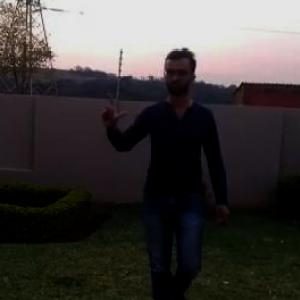land_hand: (94, 84, 128, 130)
